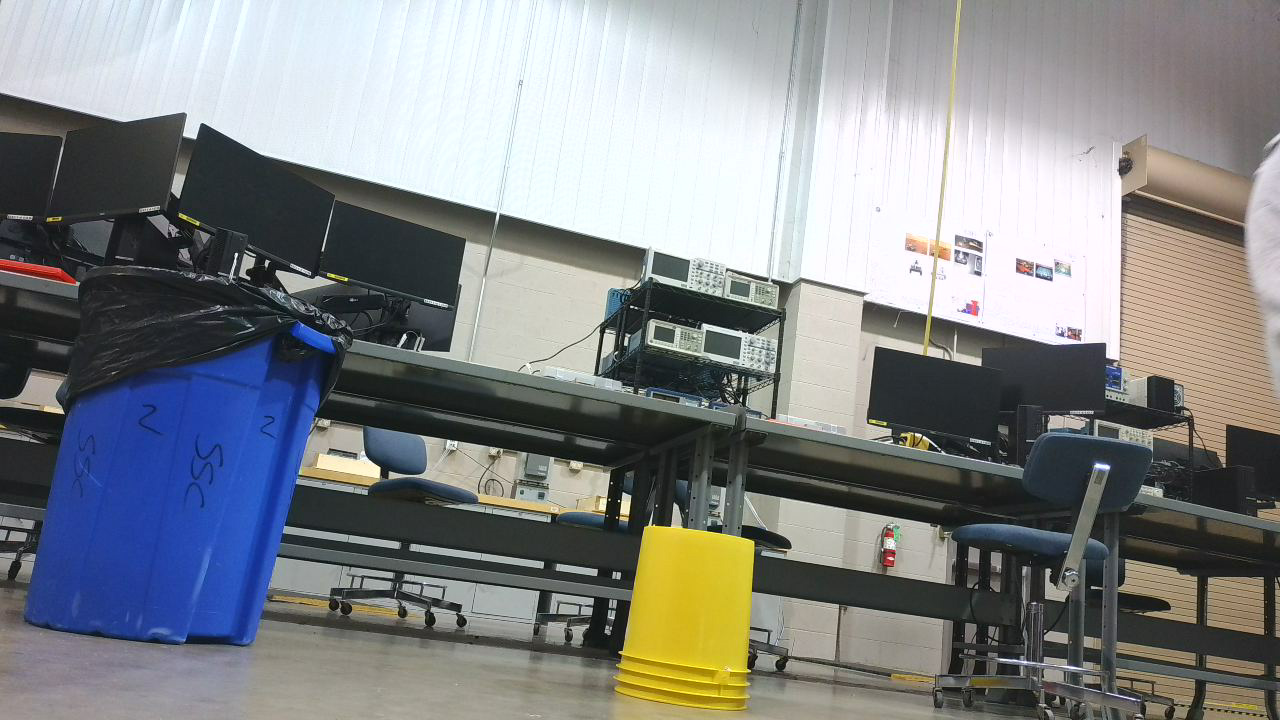yellow_bucket: (599, 524, 782, 720)
